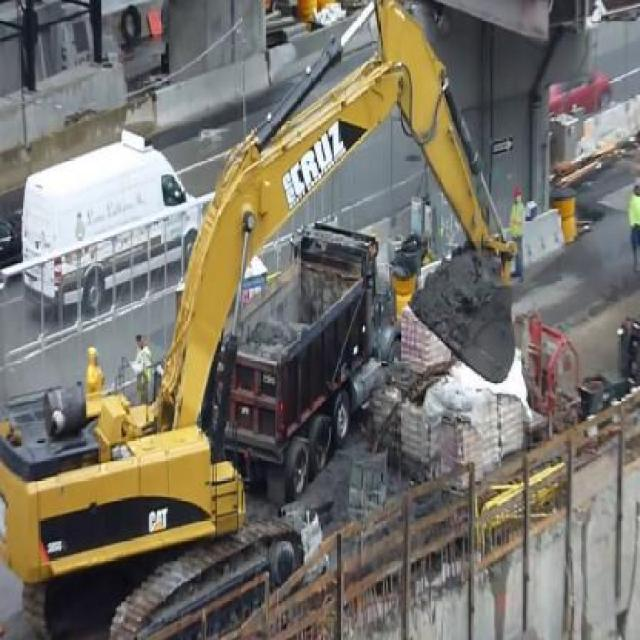dump_truck: (210, 219, 401, 504)
excavator: (0, 0, 517, 638)
